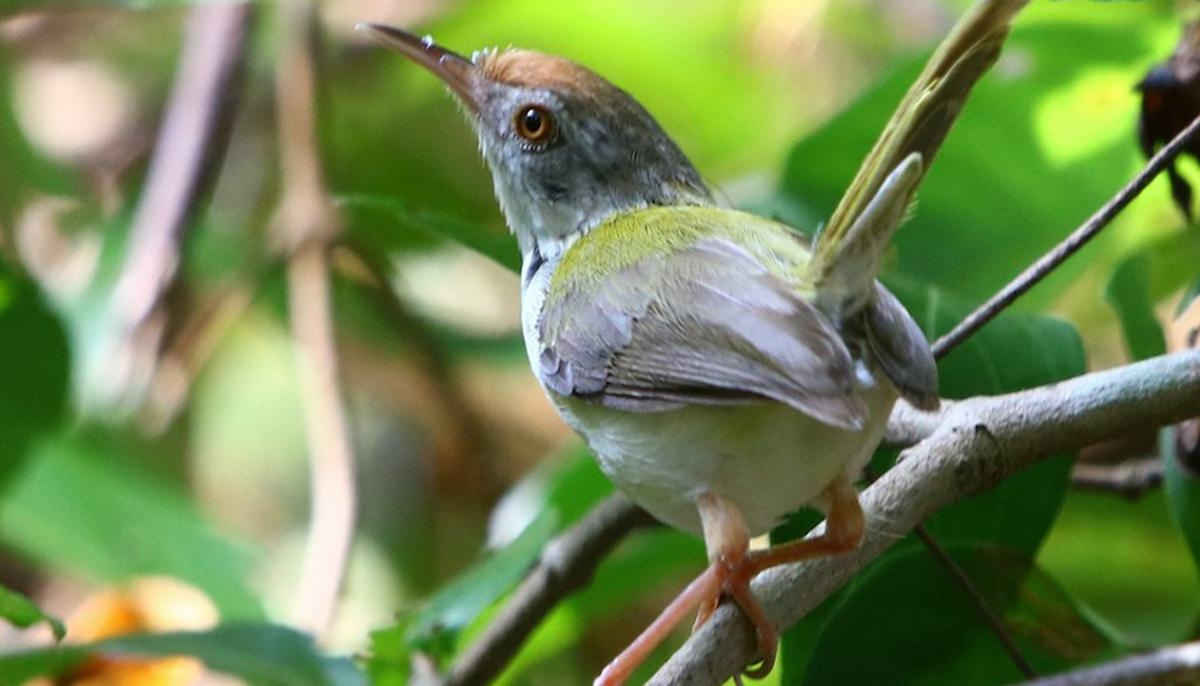tailorbird: (404, 43, 977, 587)
